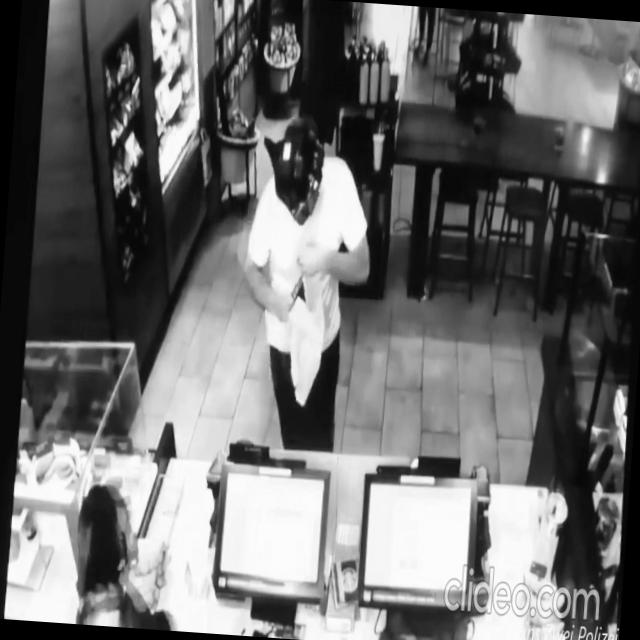gun: (282, 264, 311, 318)
person: (66, 474, 186, 630), (287, 0, 355, 153), (410, 5, 440, 70)
person with a gun: (229, 112, 382, 454)
